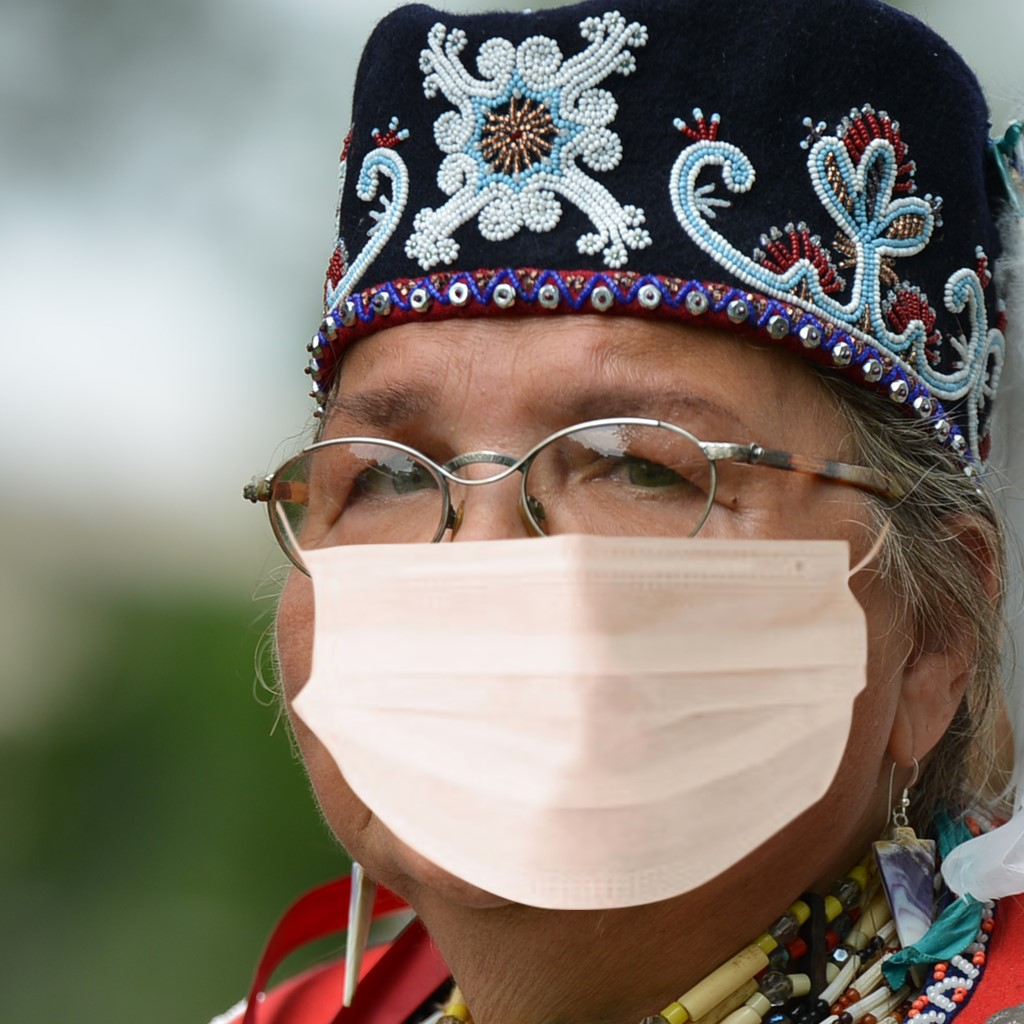con_mascara: (274, 204, 963, 959)
